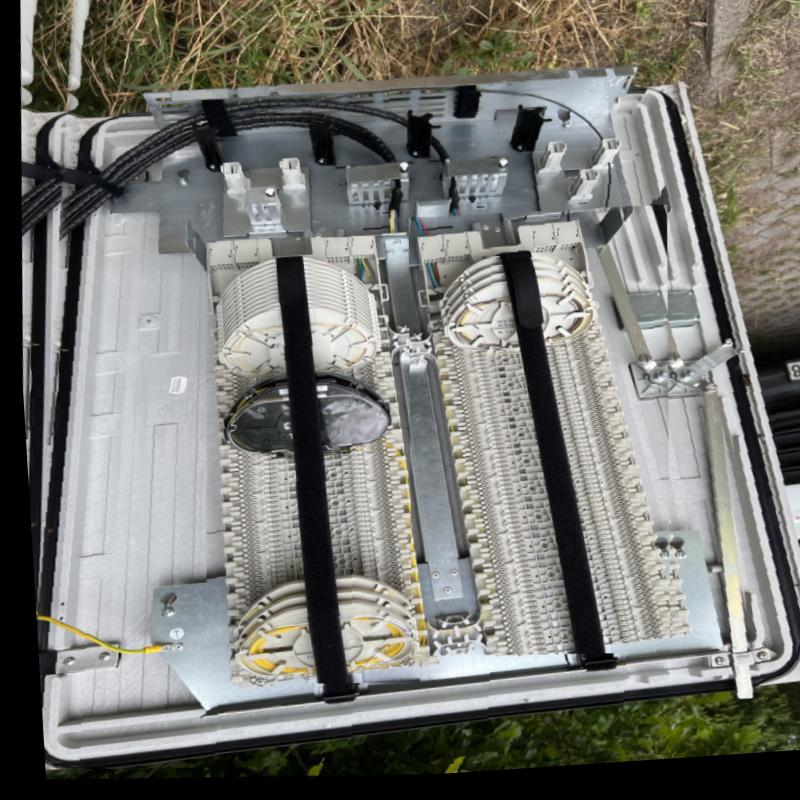NT-Gehause: (27, 0, 800, 770)
Spleiskassetten: (405, 216, 661, 661), (203, 242, 410, 687)
